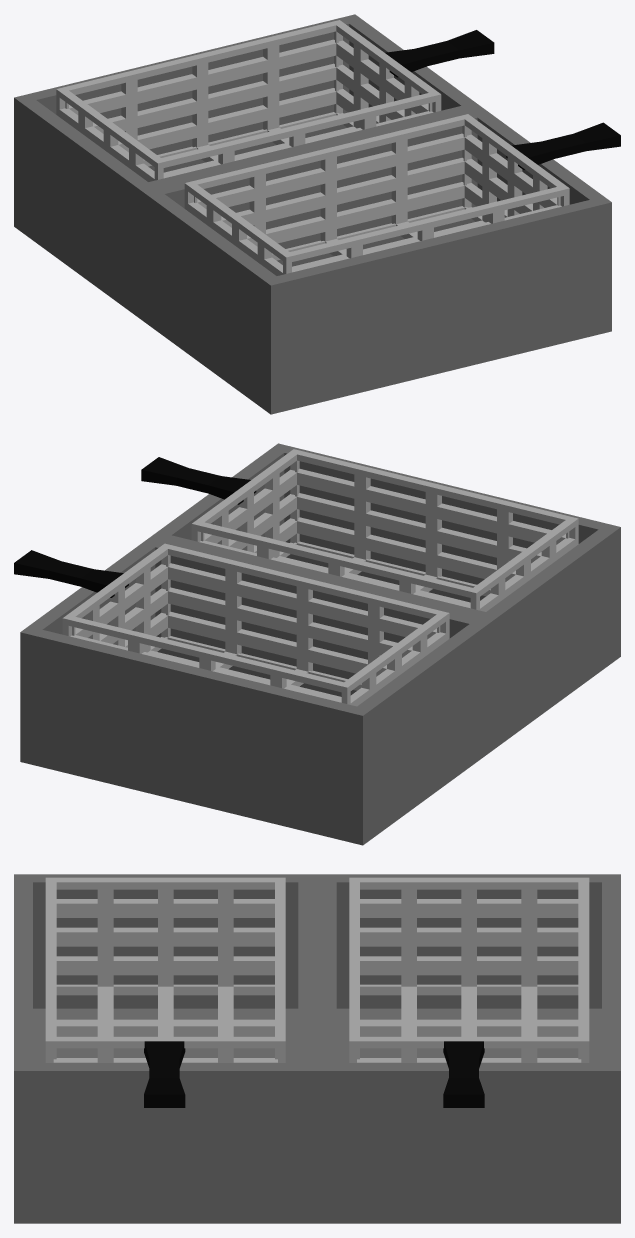
File: FriedBox.fbx
The picture shows the model from 3 angles, top to bottom: view 1: azimuth 30°, elevation 25°; view 2: azimuth 150°, elevation 25°; view 3: azimuth 270°, elevation 25°; orthographic projection. The views are drawn at different scales.
Parts seen in each view (by area): view 1: FriedBox; view 2: FriedBox; view 3: FriedBox.
Boxes of the visible parts, bbox=[...] form: FriedBox: bbox=[14, 14, 620, 414]; FriedBox: bbox=[14, 443, 620, 845]; FriedBox: bbox=[14, 874, 620, 1223].
Size of the model in its own units: 0.9204 by 0.3046 by 1.01.
